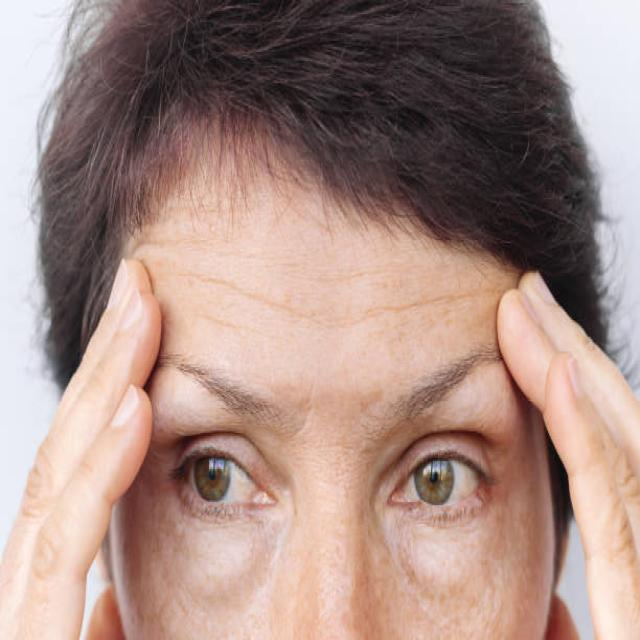Dry-Skin: (425, 310, 640, 471), (234, 193, 384, 394), (126, 220, 234, 427), (225, 533, 316, 640), (404, 539, 493, 636), (132, 483, 205, 584)
